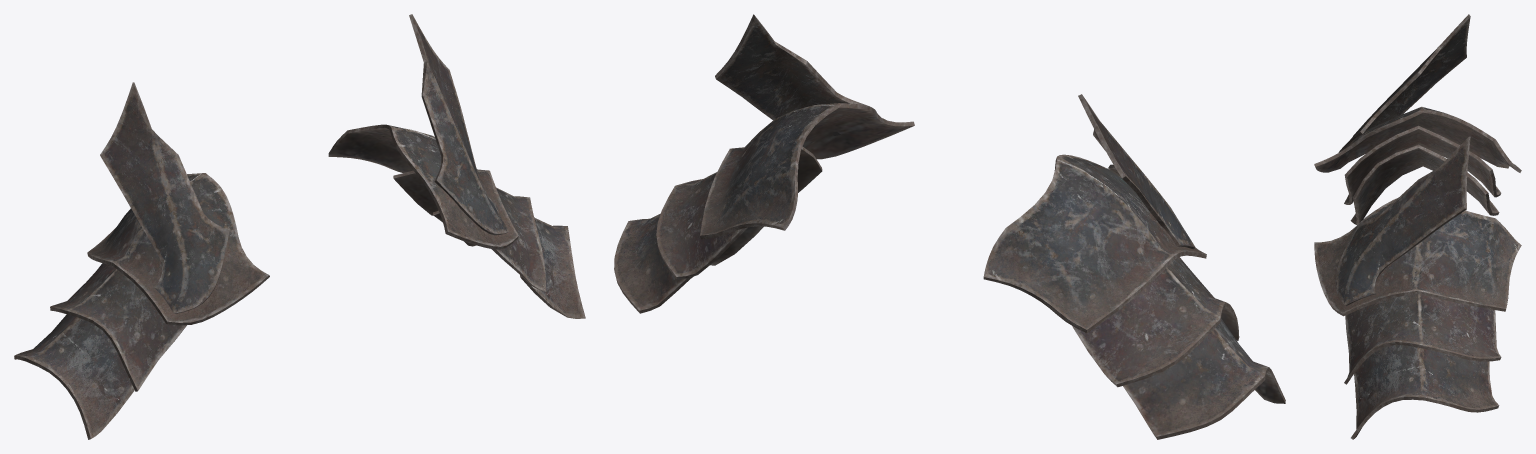
File: sk_dg_uruk_pauldron_elite_b.fbx
3 renders of one model, left to right at view 1: azimuth 30°, elevation 25°; view 2: azimuth 150°, elevation 25°; view 3: azimuth 270°, elevation 25°, orthographic. The views are drawn at different scales.
Parts seen in each view (by area): view 1: sk_dg_uruk_pauldron_elite_b; view 2: sk_dg_uruk_pauldron_elite_b; view 3: sk_dg_uruk_pauldron_elite_b.
Boxes of the visible parts, x1,y1,x2,y2 form: sk_dg_uruk_pauldron_elite_b: [14, 14, 585, 439]; sk_dg_uruk_pauldron_elite_b: [614, 14, 1285, 439]; sk_dg_uruk_pauldron_elite_b: [1314, 14, 1521, 439].
Size of the model in its own units: 0.8427 by 0.3109 by 0.4223.
1 material, 1 textured.
